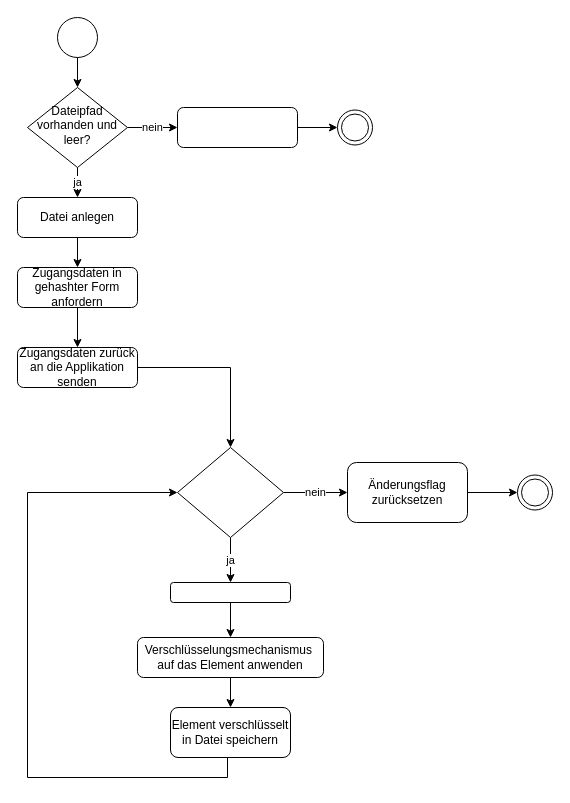
Image size: 570x803. Some labels were removed from this diagram. Each missing label, with the centre of its shape:
"Element noch nicht serialized?" goes at point 230,492.
"Element serializen" goes at point 230,592.
"Speichern abbrechen" goes at point 237,127.
